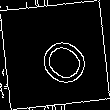O_NW: (21, 22, 89, 88)
